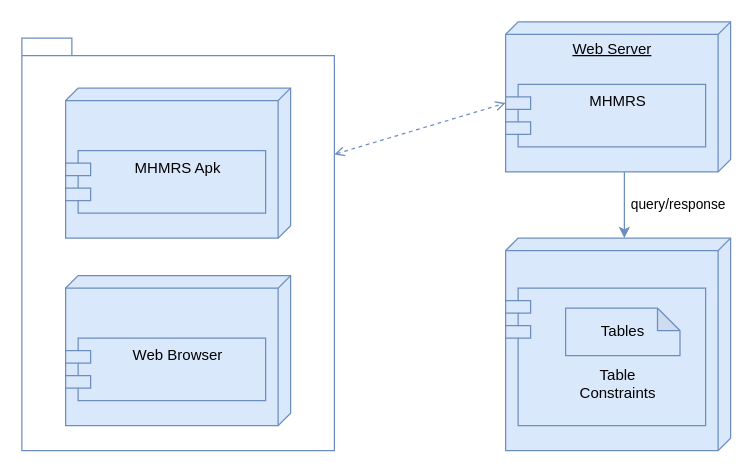
Image size: 753x473. Some labels were removed from this diagram. Each missing label, with the box of its shape:
<<Devices>> Computer: (64, 274, 291, 426)
<<Devices>> Mobiles: (64, 87, 291, 238)
MYSQL Database: (504, 237, 731, 451)
